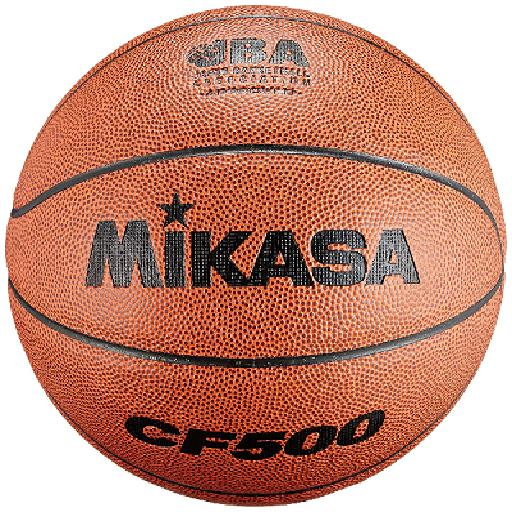ball: (4, 2, 506, 506)
